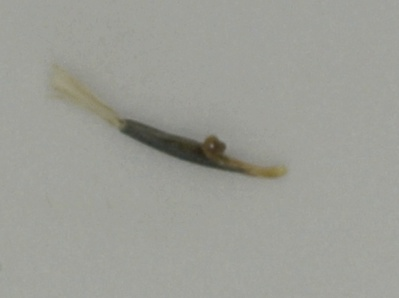เมล็ดงอกแตก: (45, 58, 288, 182)
